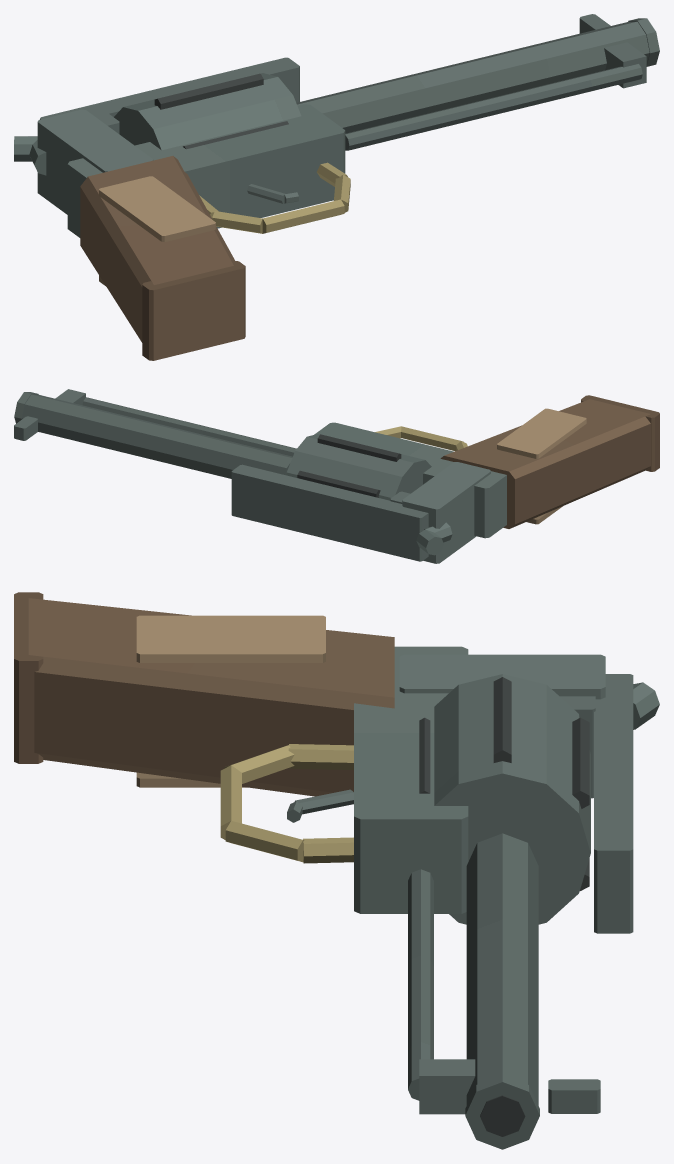
File: weapon-remington-army.glb
3 renders of one model, top to bottom at view 1: azimuth 30°, elevation 25°; view 2: azimuth 150°, elevation 25°; view 3: azimuth 270°, elevation 25°, orthographic. The views are drawn at different scales.
Parts seen in each view (by area): view 1: weapon-remington-army/lower-frame, weapon-remington-army/barrel, weapon-remington-army/eight-sided-wood-grip, weapon-remington-army/eight-sided-wood-grip-heel, weapon-remington-army/fluted-cylinder, weapon-remington-army/frame-rear, weapon-remington-army/under-barrel-rod, weapon-remington-army/grip-plaque-left, weapon-remington-army/continuous-top-strap, weapon-remington-army/cylinder-long-flute-3, weapon-remington-army/hollow-trigger-guard-4, weapon-remington-army/rod-front-lug (+2 smaller); view 2: weapon-remington-army/eight-sided-wood-grip, weapon-remington-army/continuous-top-strap, weapon-remington-army/barrel, weapon-remington-army/fluted-cylinder, weapon-remington-army/frame-rear, weapon-remington-army/lower-frame, weapon-remington-army/grip-plaque-left, weapon-remington-army/under-barrel-rod, weapon-remington-army/eight-sided-wood-grip-heel, weapon-remington-army/cylinder-long-flute-3, weapon-remington-army/cylinder-long-flute-2, weapon-remington-army/hollow-trigger-guard-4 (+4 smaller); view 3: weapon-remington-army/eight-sided-wood-grip, weapon-remington-army/fluted-cylinder, weapon-remington-army/lower-frame, weapon-remington-army/barrel, weapon-remington-army/continuous-top-strap, weapon-remington-army/grip-plaque-left, weapon-remington-army/frame-rear, weapon-remington-army/under-barrel-rod, weapon-remington-army/eight-sided-wood-grip-heel, weapon-remington-army/rod-front-lug, weapon-remington-army/barrel-end-rim, weapon-remington-army/front-sight (+13 smaller).
Boxes of the visible parts, x1,y1,x2,y2 form: weapon-remington-army/lower-frame: [67, 104, 345, 237]; weapon-remington-army/barrel: [296, 21, 649, 133]; weapon-remington-army/eight-sided-wood-grip: [80, 156, 234, 342]; weapon-remington-army/eight-sided-wood-grip-heel: [142, 260, 245, 360]; weapon-remington-army/fluted-cylinder: [114, 73, 301, 150]; weapon-remington-army/frame-rear: [37, 109, 153, 214]; weapon-remington-army/under-barrel-rod: [345, 64, 642, 150]; weapon-remington-army/grip-plaque-left: [99, 176, 215, 242]; weapon-remington-army/continuous-top-strap: [40, 57, 299, 119]; weapon-remington-army/cylinder-long-flute-3: [154, 73, 263, 109]; weapon-remington-army/hollow-trigger-guard-4: [262, 199, 344, 233]; weapon-remington-army/rod-front-lug: [604, 42, 646, 88]; weapon-remington-army/eight-sided-wood-grip: [440, 399, 650, 528]; weapon-remington-army/continuous-top-strap: [231, 464, 428, 561]; weapon-remington-army/barrel: [22, 394, 292, 478]; weapon-remington-army/fluted-cylinder: [286, 434, 431, 500]; weapon-remington-army/frame-rear: [402, 462, 490, 563]; weapon-remington-army/lower-frame: [314, 422, 506, 538]; weapon-remington-army/grip-plaque-left: [497, 408, 586, 458]; weapon-remington-army/under-barrel-rod: [82, 397, 296, 456]; weapon-remington-army/eight-sided-wood-grip-heel: [581, 395, 659, 471]; weapon-remington-army/cylinder-long-flute-3: [317, 434, 401, 461]; weapon-remington-army/cylinder-long-flute-2: [297, 470, 380, 497]; weapon-remington-army/hollow-trigger-guard-4: [401, 426, 463, 451]; weapon-remington-army/eight-sided-wood-grip: [28, 598, 394, 796]; weapon-remington-army/fluted-cylinder: [434, 674, 590, 924]; weapon-remington-army/lower-frame: [354, 646, 468, 913]; weapon-remington-army/barrel: [466, 833, 538, 1105]; weapon-remington-army/continuous-top-strap: [594, 674, 633, 933]; weapon-remington-army/grip-plaque-left: [136, 615, 325, 662]; weapon-remington-army/frame-rear: [399, 654, 605, 699]; weapon-remington-army/under-barrel-rod: [408, 869, 433, 1100]; weapon-remington-army/eight-sided-wood-grip-heel: [14, 592, 43, 763]; weapon-remington-army/rod-front-lug: [419, 1059, 475, 1114]; weapon-remington-army/barrel-end-rim: [465, 1075, 539, 1149]; weapon-remington-army/front-sight: [548, 1079, 600, 1113].
Bounding box in the file's own units: 0.3424 × 0.0614 × 0.1976.
Materials: 5 (5 with a texture image).
